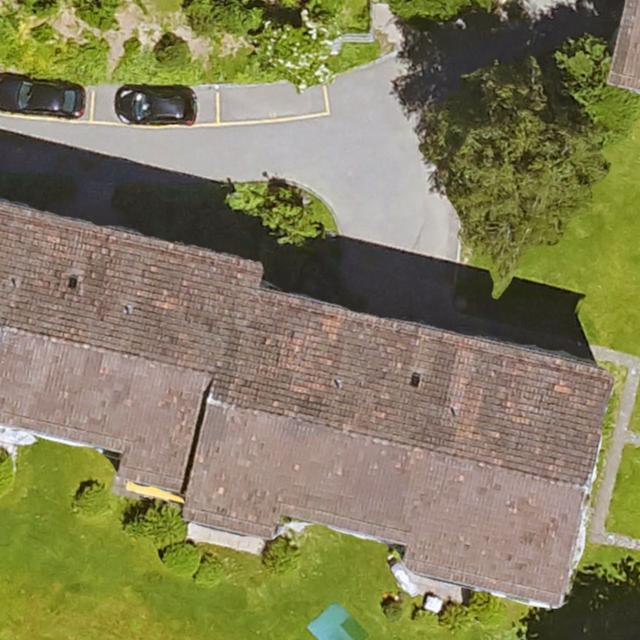tree: (423, 73, 604, 251), (240, 182, 324, 242), (553, 38, 609, 102)
